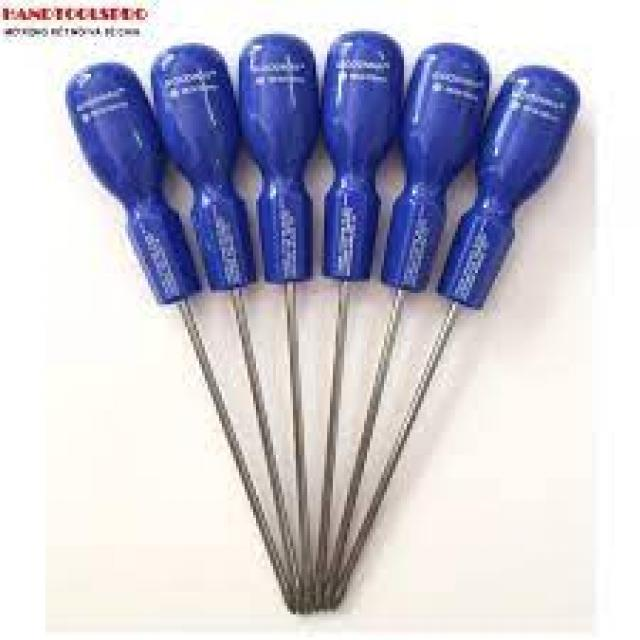screwdriver: (332, 61, 584, 607), (60, 53, 296, 614), (326, 27, 490, 616), (144, 40, 308, 618), (313, 27, 407, 619), (232, 30, 314, 619)
